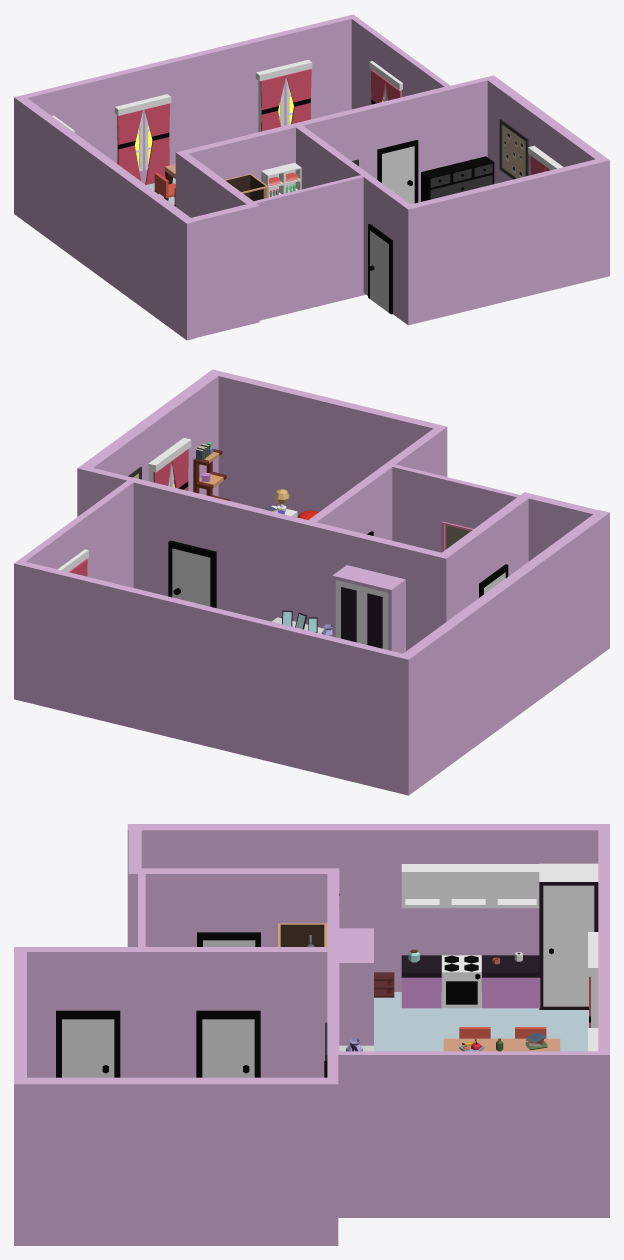
File: Friends Appartment.fbx
The picture shows the model from 3 angles, top to bottom: view 1: azimuth 30°, elevation 25°; view 2: azimuth 150°, elevation 25°; view 3: azimuth 270°, elevation 25°; orthographic projection. The views are drawn at different scales.
Visible parts, largest first — view 1: Walls, Cylinder.025, Cylinder.020, Cylinder.022, Plane.002, Cube.014, Plane.001, Plane.004, Plane.003, Cube.078, Cube.076, Cube.012 (+3 smaller); view 2: Walls, Cylinder.020, Cube.049, Cube.050, Cube.051, Cube.015, Cube.063, Plane.010; view 3: Walls, Cube.046, Plane, Cube.047, Cylinder.004, Cylinder.022, Cube.049, Cube.045, Cube.030, Cube.044, Cube.076, Table (+1 smaller).
Part boxes in pixels (x1,y1,x2,y2): Walls: (14,14,609,340); Cylinder.025: (421,156,494,201); Cylinder.020: (377,140,418,204); Cylinder.022: (368,224,392,314); Plane.002: (144,103,170,184); Cube.014: (499,119,528,179); Plane.001: (117,110,142,180); Plane.004: (260,75,286,131); Plane.003: (286,69,311,124); Cube.078: (261,162,301,197); Cube.076: (225,173,268,201); Cube.012: (117,109,151,171); Walls: (14,369,609,795); Cylinder.020: (168,540,216,607); Cube.049: (332,565,405,653); Cube.050: (335,580,361,643); Cube.051: (362,586,388,649); Cube.015: (193,449,229,500); Cube.063: (148,438,191,472); Plane.010: (171,449,188,490); Walls: (14,824,609,1245); Cube.046: (539,863,598,1009); Plane: (374,992,588,1051); Cube.047: (401,864,539,908); Cylinder.004: (196,1010,260,1077); Cylinder.022: (56,1010,120,1077); Cube.049: (339,928,373,1045); Cube.045: (482,955,540,1008); Cube.030: (401,955,441,1008); Cube.044: (442,955,481,1008); Cube.076: (278,923,327,946); Table: (443,1038,560,1051).
Size of the model in its own units: 3186 by 942 by 3084.
